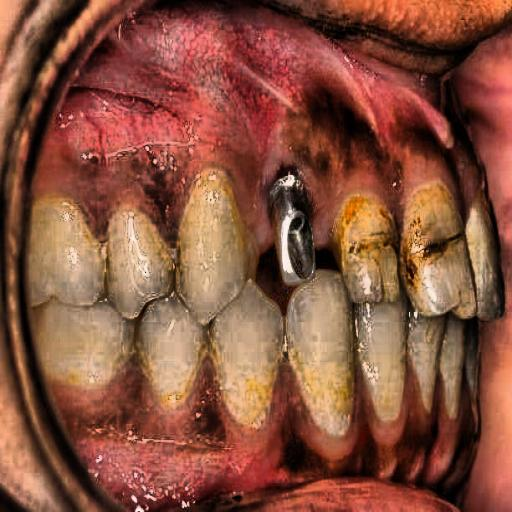Gingivitis: (297, 44, 489, 210), (262, 397, 510, 511)
